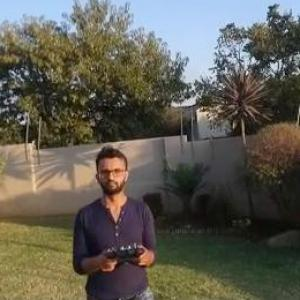follow: (68, 140, 164, 298)
